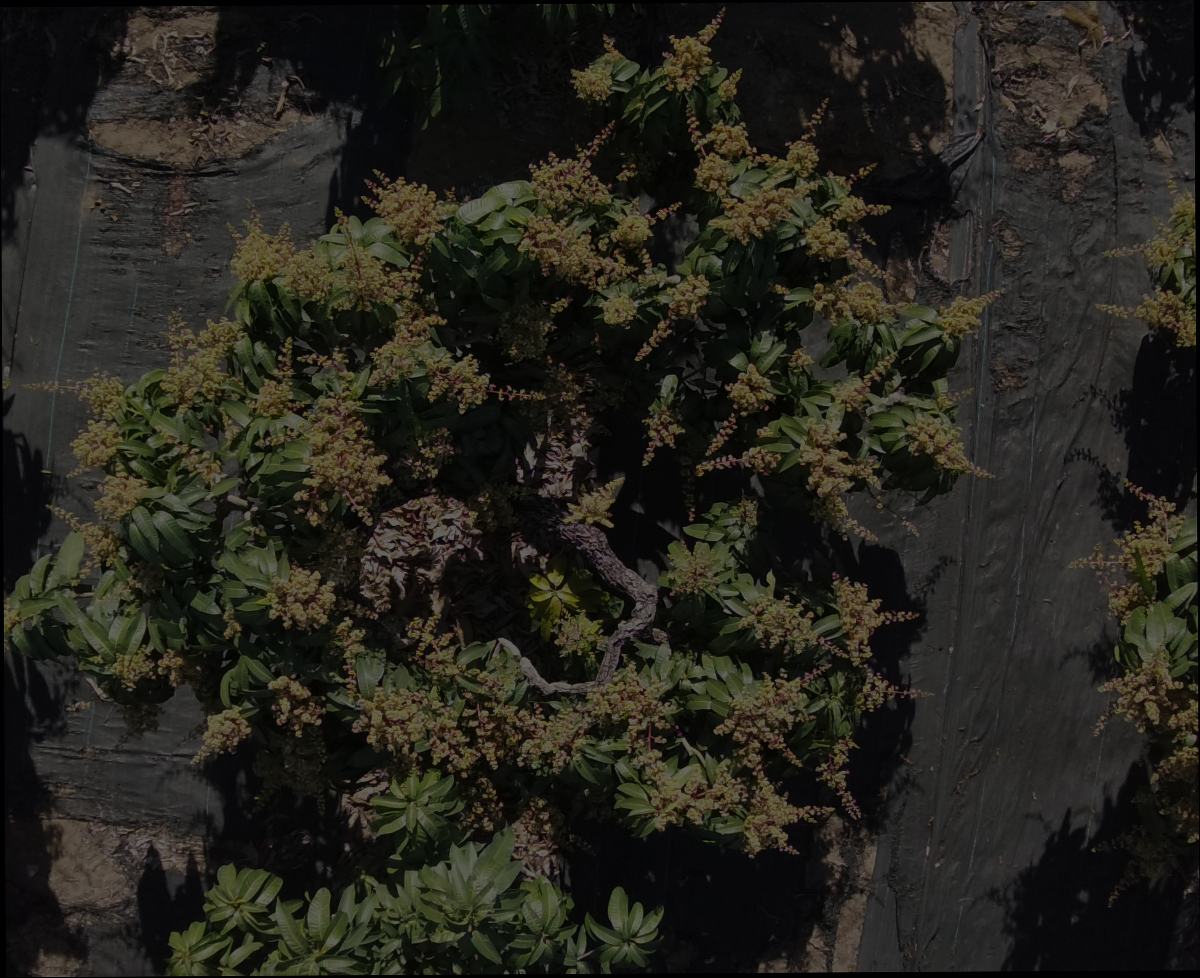flowers: (280, 222, 489, 414), (356, 669, 683, 786), (650, 742, 832, 855), (695, 102, 825, 245), (739, 574, 916, 667), (1069, 480, 1185, 621), (292, 390, 392, 526), (1097, 652, 1198, 781), (799, 420, 877, 541), (407, 617, 519, 701), (518, 215, 638, 290), (713, 676, 811, 766), (161, 313, 244, 411), (1105, 182, 1195, 267), (361, 171, 458, 248), (530, 124, 614, 212), (633, 274, 710, 361), (252, 725, 327, 808), (905, 414, 993, 478), (1100, 289, 1196, 347), (70, 373, 125, 470), (662, 10, 724, 92), (266, 564, 336, 633), (230, 210, 296, 282), (805, 218, 884, 278), (511, 796, 568, 876), (811, 278, 906, 324), (49, 505, 120, 565), (253, 337, 305, 418), (1156, 745, 1198, 843), (489, 359, 581, 403), (832, 351, 897, 412), (110, 647, 201, 690), (815, 737, 861, 819), (160, 430, 223, 488), (609, 201, 681, 251), (268, 675, 326, 736), (496, 302, 555, 361), (191, 707, 252, 764), (854, 668, 933, 710), (785, 100, 828, 177), (937, 290, 1003, 340), (571, 35, 618, 102), (661, 541, 718, 596), (567, 476, 624, 528), (459, 775, 505, 834), (404, 427, 455, 480), (93, 471, 147, 520), (642, 403, 684, 466), (695, 446, 782, 476), (725, 363, 775, 414), (553, 611, 606, 659), (332, 618, 365, 687), (828, 195, 890, 231), (668, 274, 710, 318), (705, 414, 737, 456), (128, 561, 166, 596), (601, 293, 637, 327), (637, 249, 668, 288), (717, 68, 742, 101), (732, 497, 758, 528), (223, 603, 242, 640), (787, 347, 814, 371), (3, 598, 21, 634), (615, 162, 637, 182), (549, 297, 572, 315)
